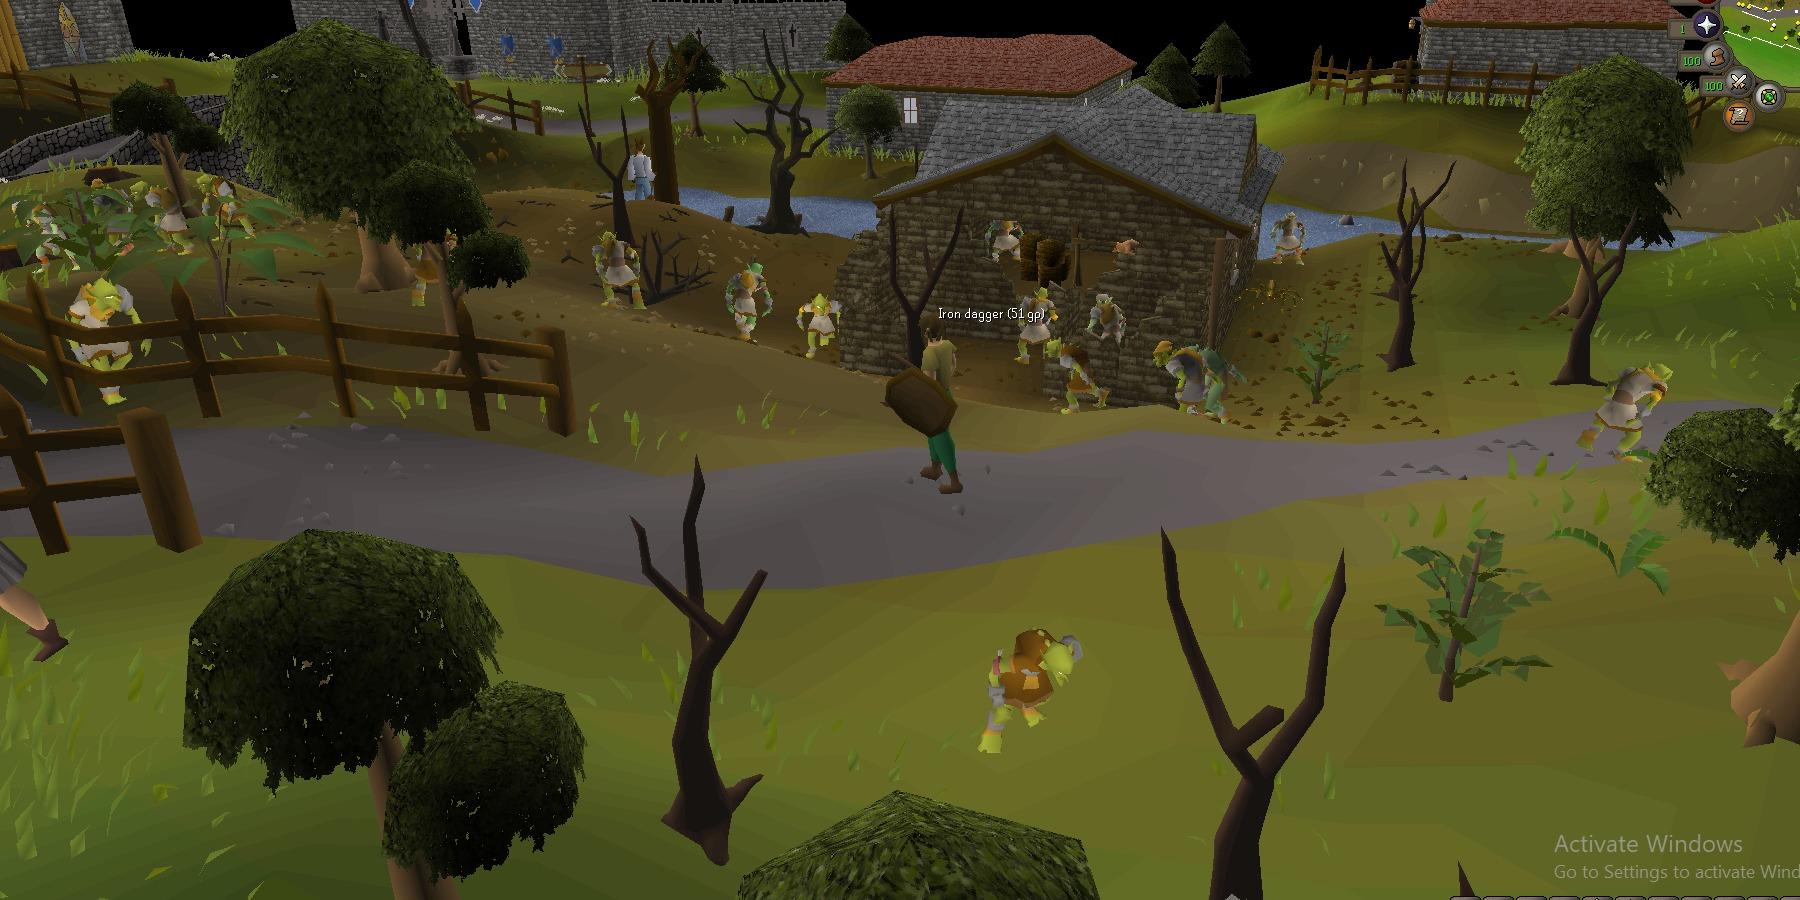goblin: (978, 624, 1085, 755), (69, 279, 153, 404), (1575, 362, 1673, 464), (130, 181, 196, 256), (1045, 338, 1109, 414), (1187, 344, 1247, 424), (593, 232, 647, 311), (726, 253, 773, 343), (411, 231, 466, 308), (1153, 340, 1207, 416), (197, 174, 256, 241), (1014, 287, 1058, 365), (90, 179, 134, 255), (34, 203, 82, 274), (796, 293, 841, 359), (1270, 212, 1308, 265), (1087, 294, 1126, 343)
